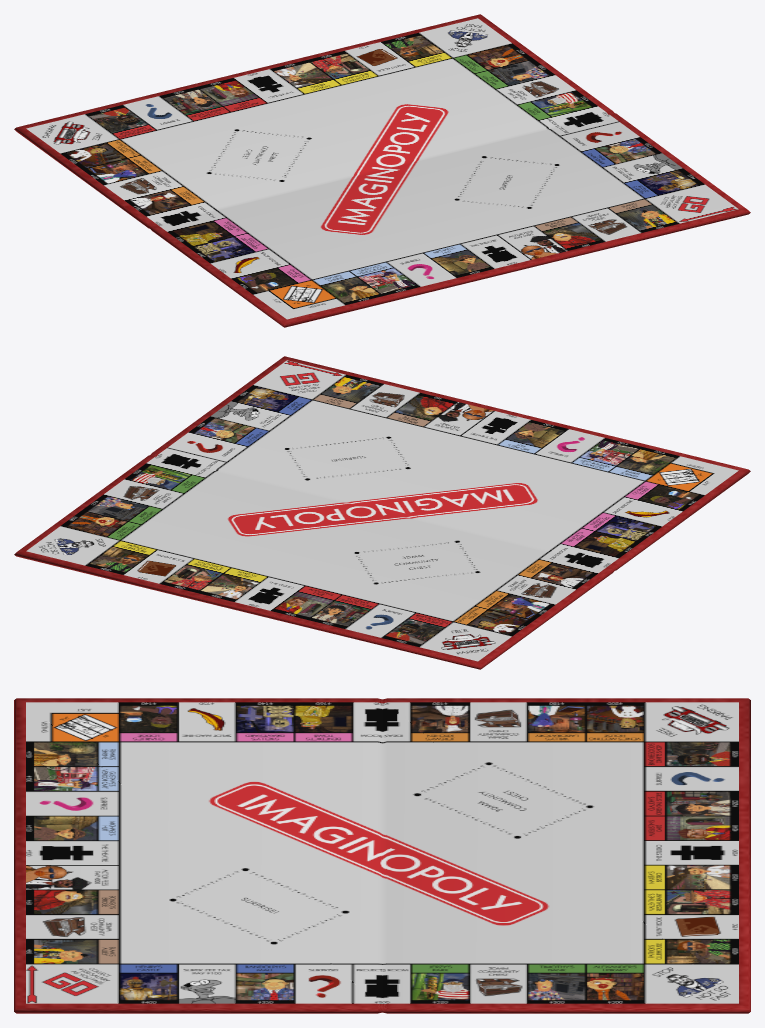
Rendered from Board.fbx.
3 views of the same model, one above another, from view 1: azimuth 30°, elevation 25°; view 2: azimuth 150°, elevation 25°; view 3: azimuth 270°, elevation 25° (orthographic). The views are drawn at different scales.
Visible parts, largest first — view 1: Board; view 2: Board; view 3: Board.
Boxes of the visible parts, bbox=[...] form: Board: bbox=[14, 14, 750, 327]; Board: bbox=[14, 356, 750, 669]; Board: bbox=[14, 698, 750, 1013].
Size of the model in its own units: 36.2 by 0.3097 by 36.2.
Materials: 2 (2 with a texture image).
